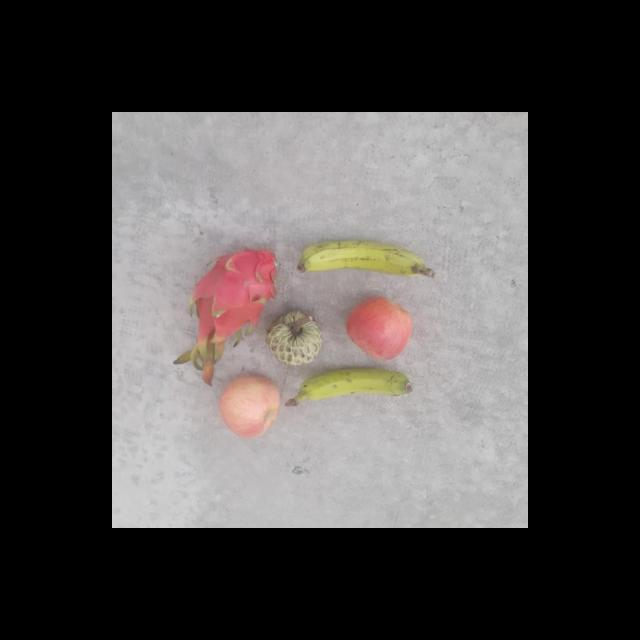Sakya fruit: (260, 307, 327, 373)
apple: (340, 286, 416, 362), (212, 370, 286, 442)
banana: (295, 230, 431, 284), (288, 363, 414, 412)
pitaya: (189, 244, 290, 339)
